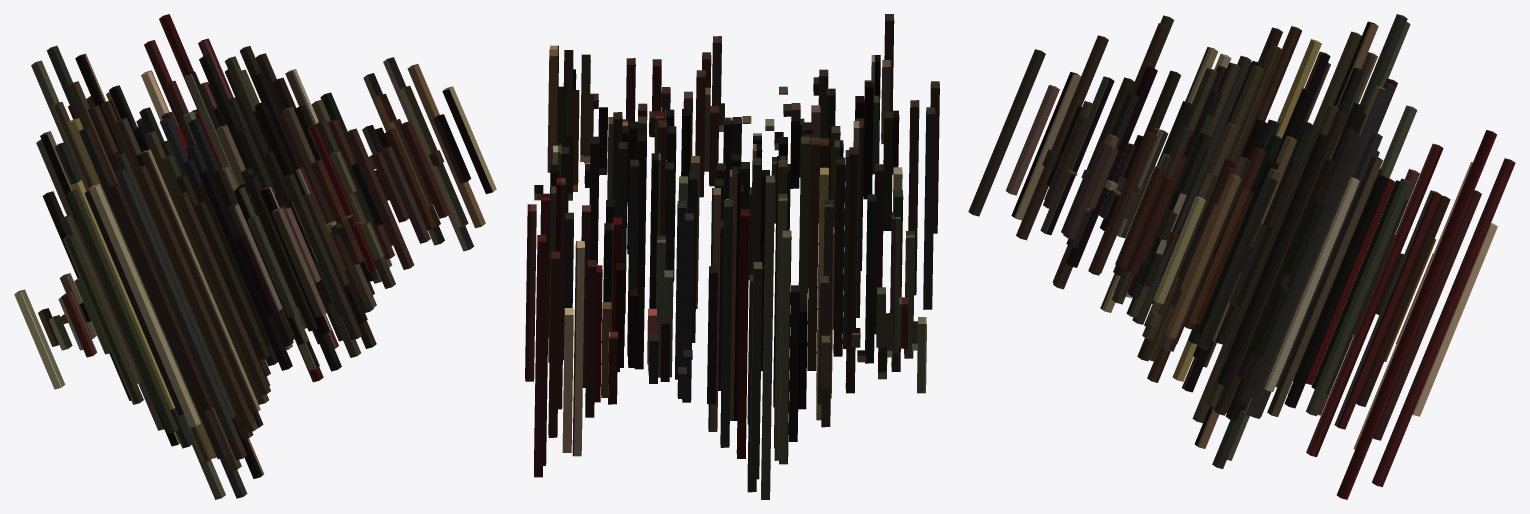
File: grid_rect.glb
The picture shows the model from 3 angles, left to right: view 1: azimuth 30°, elevation 25°; view 2: azimuth 150°, elevation 25°; view 3: azimuth 270°, elevation 25°; orthographic projection. The views are drawn at different scales.
Parts seen in each view (by area): view 1: Grid.002; view 2: Grid.002; view 3: Grid.002.
Part boxes in pixels (x1,y1,x2,y2): Grid.002: (14,14,496,499); Grid.002: (525,14,939,499); Grid.002: (968,14,1515,499).
Size of the model in its own units: 2.87 by 2.65 by 3.23.
Materials: 1 (1 with a texture image).
